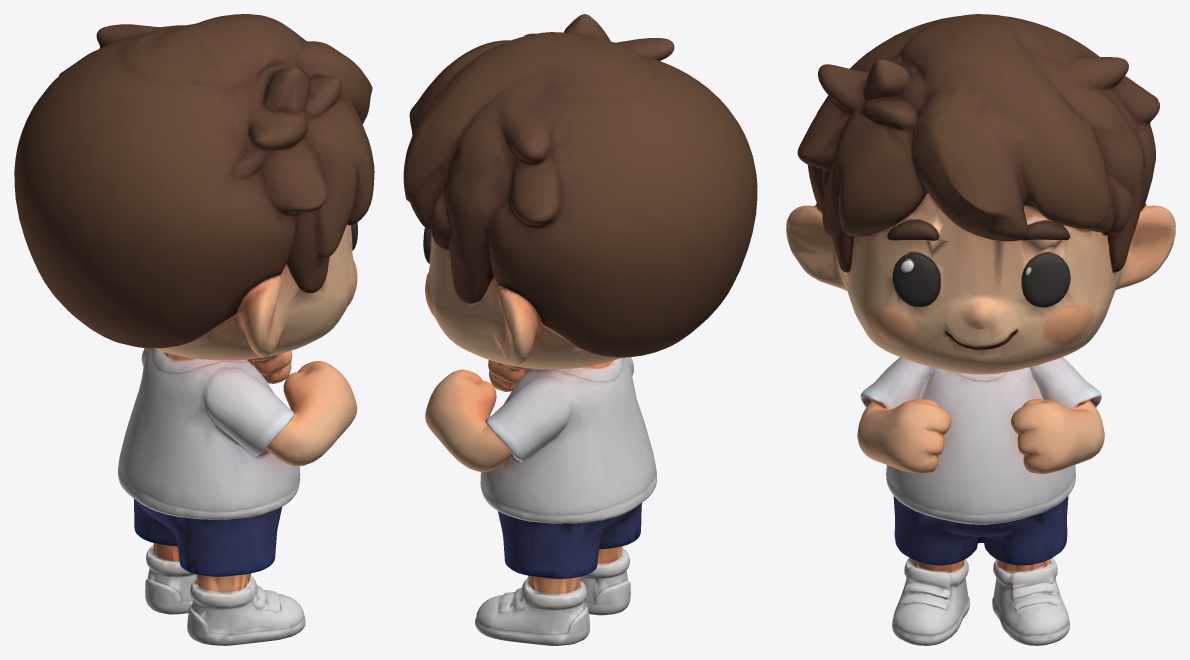
Rendered from boy3.glb.
3 views of the same model, side by side, from view 1: azimuth 30°, elevation 25°; view 2: azimuth 150°, elevation 25°; view 3: azimuth 270°, elevation 25° (orthographic). The views are drawn at different scales.
Visible parts, largest first — view 1: tripo_node_b964a669-cdd2-4ad5-ba61-1ff2755121f4; view 2: tripo_node_b964a669-cdd2-4ad5-ba61-1ff2755121f4; view 3: tripo_node_b964a669-cdd2-4ad5-ba61-1ff2755121f4.
Part boxes in pixels (bbox=[...]): tripo_node_b964a669-cdd2-4ad5-ba61-1ff2755121f4: bbox=[14, 14, 374, 645]; tripo_node_b964a669-cdd2-4ad5-ba61-1ff2755121f4: bbox=[403, 14, 757, 645]; tripo_node_b964a669-cdd2-4ad5-ba61-1ff2755121f4: bbox=[786, 14, 1175, 645].
Bounding box in the file's own units: 0.5861 × 0.9997 × 0.6034.
1 material, 1 textured.
